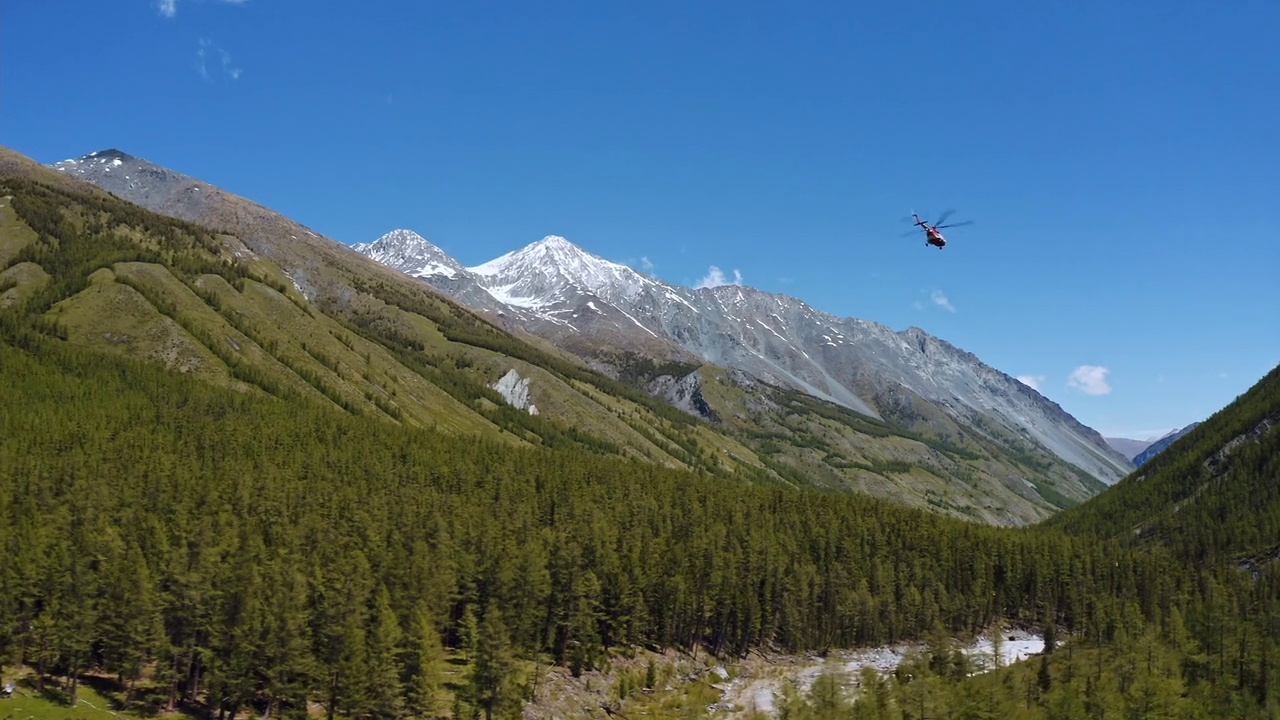heli: (911, 208, 973, 253)
